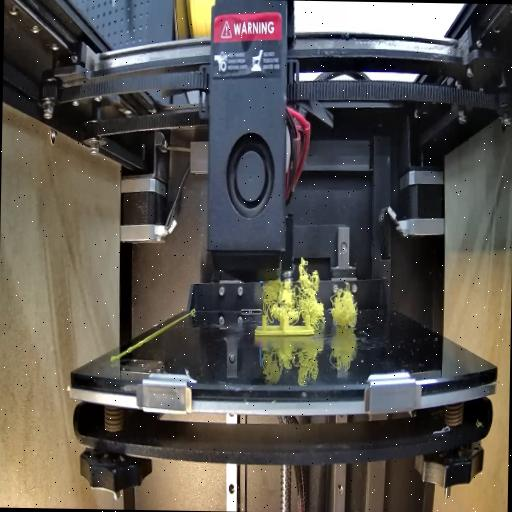spaghetti: (264, 252, 326, 328), (328, 288, 360, 330)
